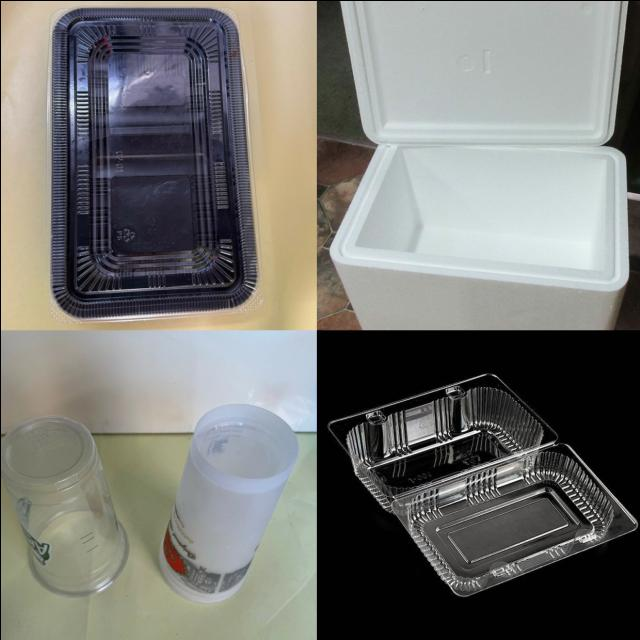plastik: (327, 373, 636, 595), (49, 7, 258, 318), (330, 145, 628, 328), (340, 0, 627, 145), (158, 404, 298, 602), (0, 416, 127, 596)
